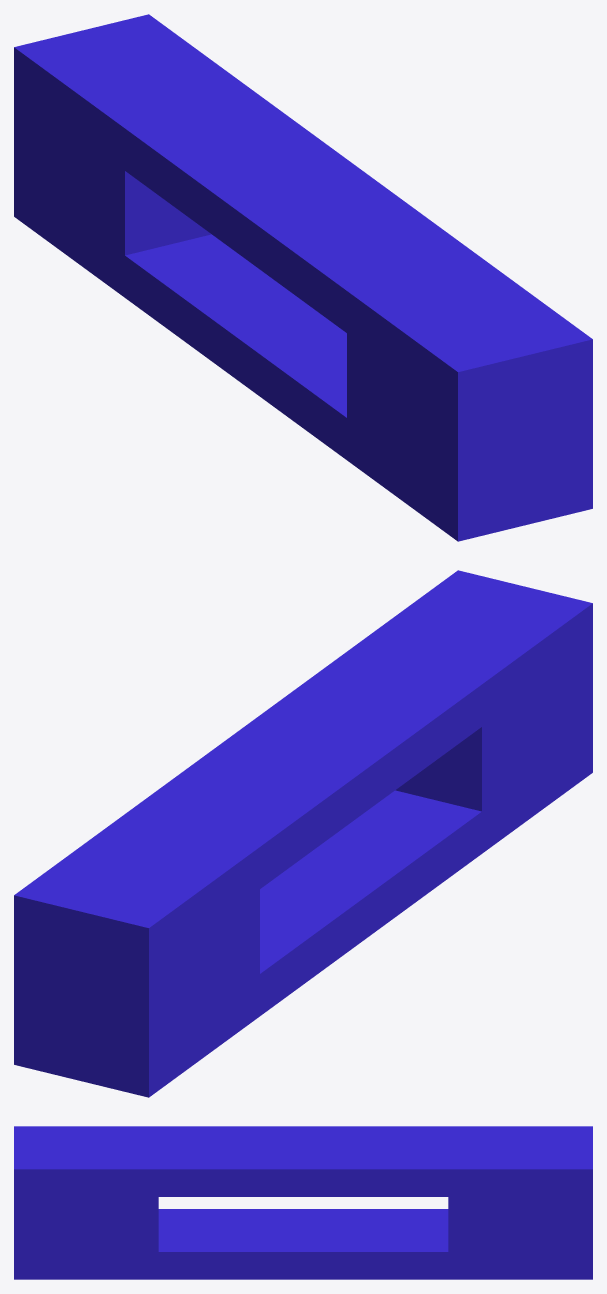
File: window_wide.fbx
The picture shows the model from 3 angles, top to bottom: view 1: azimuth 30°, elevation 25°; view 2: azimuth 150°, elevation 25°; view 3: azimuth 270°, elevation 25°; orthographic projection. The views are drawn at different scales.
Visible parts, largest first — view 1: Plane; view 2: Plane; view 3: Plane.
Boxes of the visible parts, left/top/right/bottom form: Plane: left=14, top=14, right=592, bottom=541; Plane: left=14, top=570, right=592, bottom=1097; Plane: left=14, top=1126, right=592, bottom=1279.
Size of the model in its own units: 66.67 by 80 by 380.
